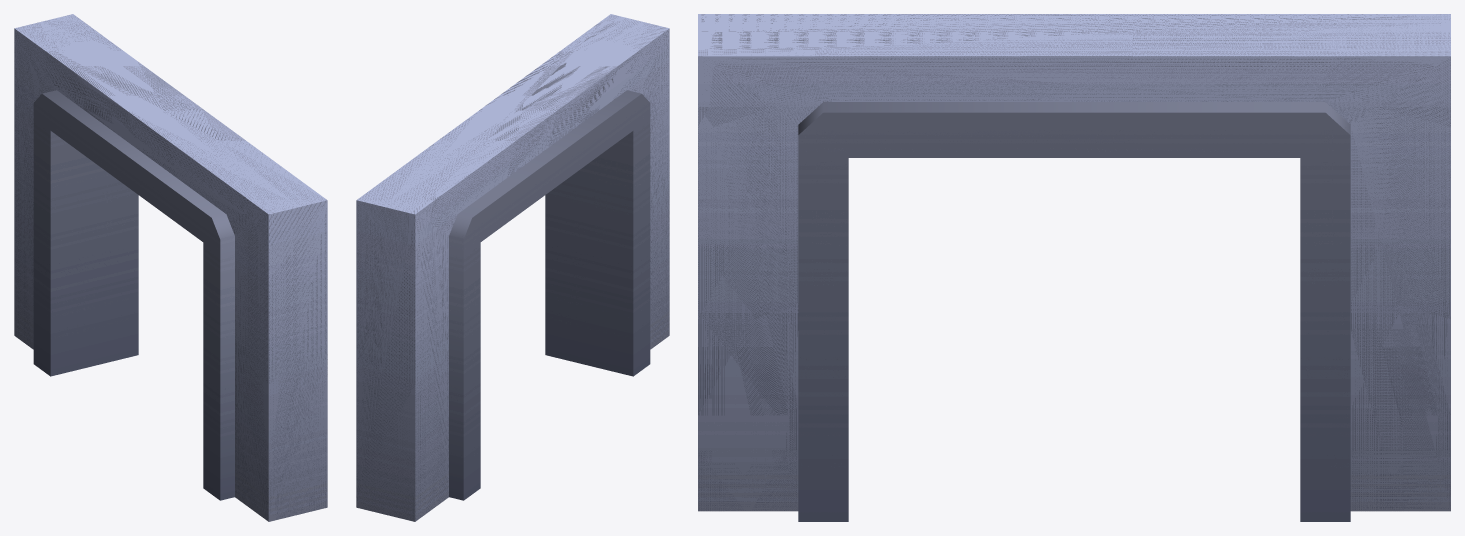
Rendered from wall-doorway-wide.glb.
The picture shows the model from 3 angles, left to right: view 1: azimuth 30°, elevation 25°; view 2: azimuth 150°, elevation 25°; view 3: azimuth 270°, elevation 25°; orthographic projection. The views are drawn at different scales.
Parts seen in each view (by area): view 1: wall-doorway-wide-col; view 2: wall-doorway-wide-col; view 3: wall-doorway-wide-col.
Part boxes in pixels (x1=…): wall-doorway-wide-col: x1=14, y1=14, x2=327, y2=521; wall-doorway-wide-col: x1=356, y1=14, x2=669, y2=521; wall-doorway-wide-col: x1=698, y1=14, x2=1450, y2=521.
Bounding box in the file's own units: 0.3 × 1 × 1.5.
Materials: 1 (1 with a texture image).
